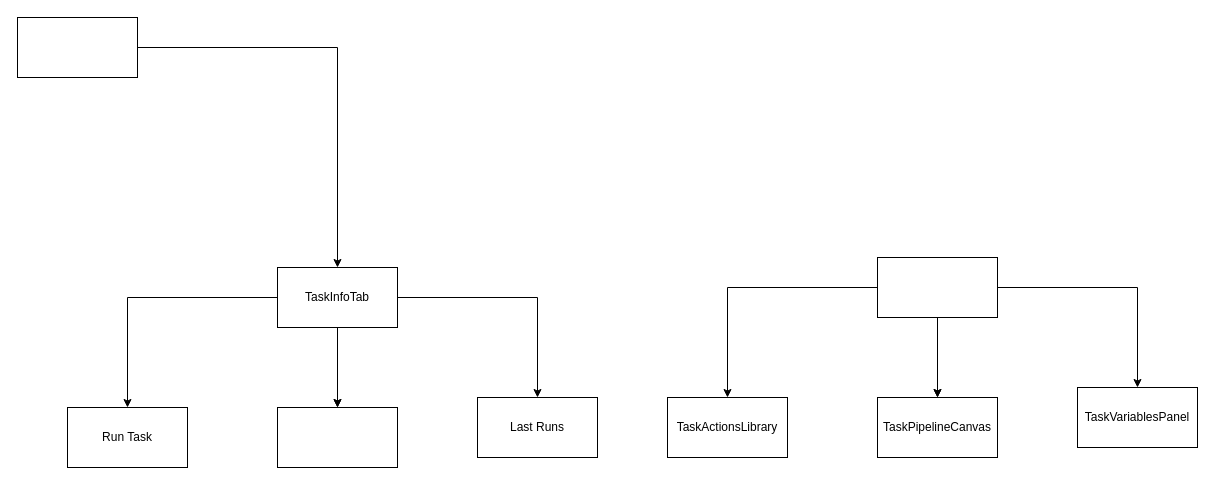
The diagram is 1215 pixels wide and 485 high, and some of its shapes have lost their labels. Each missing label, with the centre of its shape:
"Details" goes at [337,437].
"TaskDetail" goes at [77,47].
"TaskEdit" goes at [937,287].
